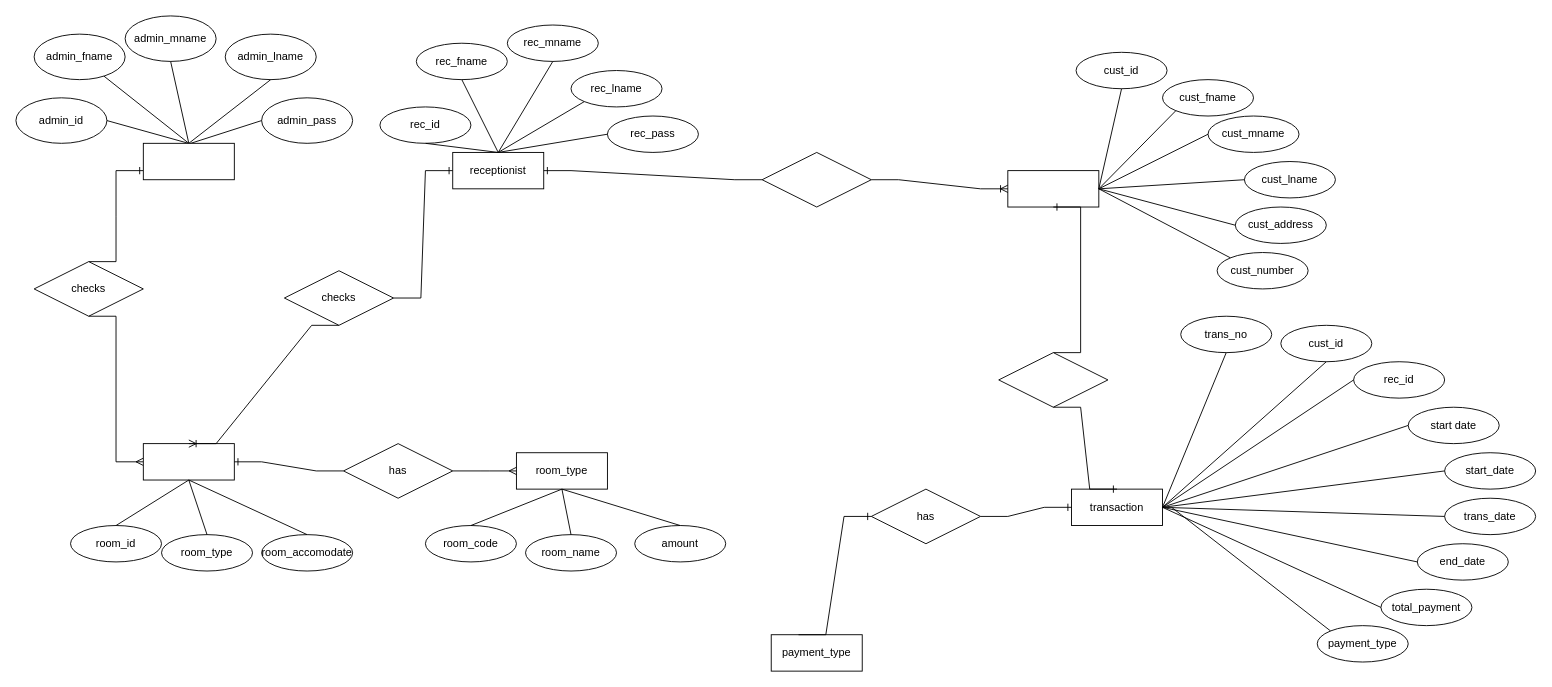
This 1552x687 diagram has some shape labels left out. The box of each missing label's shape, as (x1, y1, x2, y2) in pixels:
admin: (142, 142, 234, 180)
confirms: (761, 152, 871, 207)
creates: (998, 352, 1108, 407)
customer: (1007, 170, 1099, 207)
room: (142, 443, 234, 480)
